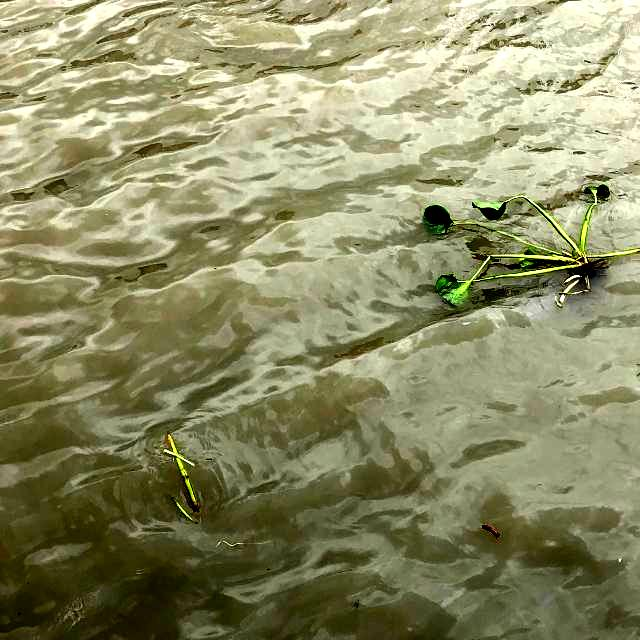water-hyacinth: (419, 180, 640, 308)
